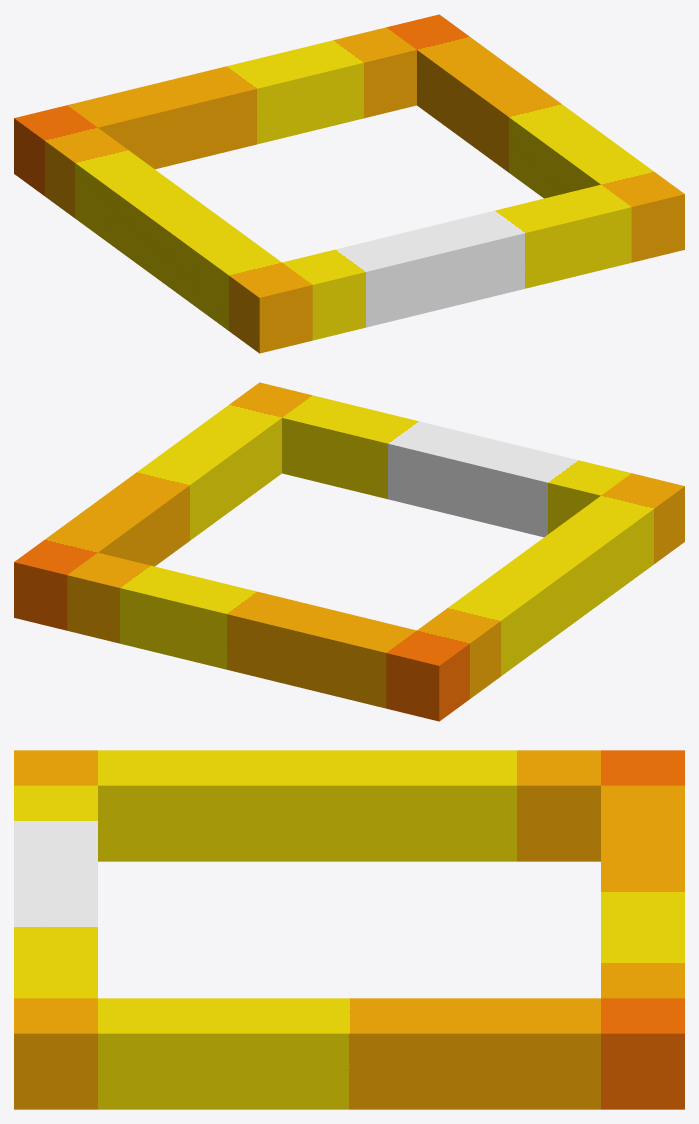
Rendered from sl_angel_halo.glb.
3 renders of one model, top to bottom at view 1: azimuth 30°, elevation 25°; view 2: azimuth 150°, elevation 25°; view 3: azimuth 270°, elevation 25°, orthographic. The views are drawn at different scales.
Parts seen in each view (by area): view 1: bb_angel_halo; view 2: bb_angel_halo; view 3: bb_angel_halo.
Part boxes in pixels (x1,y1,x2,y2): bb_angel_halo: [14, 14, 684, 353]; bb_angel_halo: [14, 382, 684, 721]; bb_angel_halo: [14, 750, 684, 1109].
Bounding box in the file's own units: 0.5 × 0.0625 × 0.5.
1 material, 1 textured.
